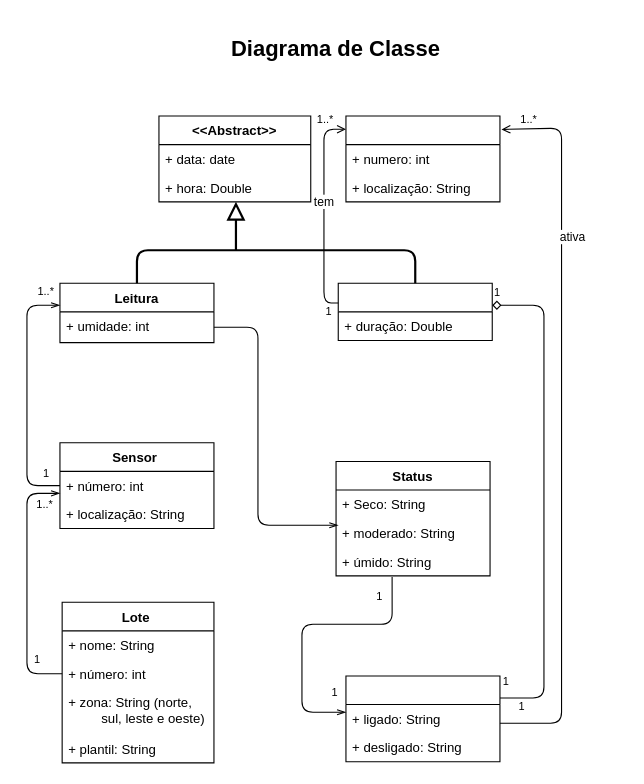
Image size: 644x784. Some labels were removed from this diagram. The shapes that lost their labels are listed below. From the top down, each one's box as (x1, y1, x2, y2) in pixels, then its label:
(345, 115, 500, 202): Bico
(337, 282, 492, 340): Agendamento
(345, 675, 500, 762): Ativação
